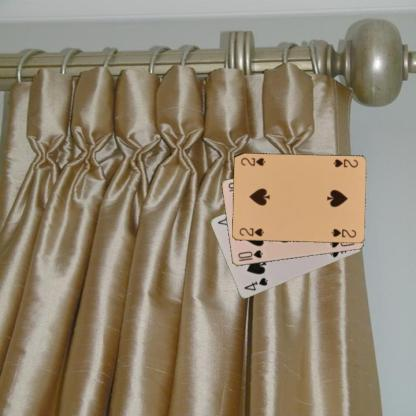10s: (235, 248, 264, 262)
2s: (330, 156, 359, 168), (236, 226, 265, 237)
4s: (242, 274, 269, 292)
